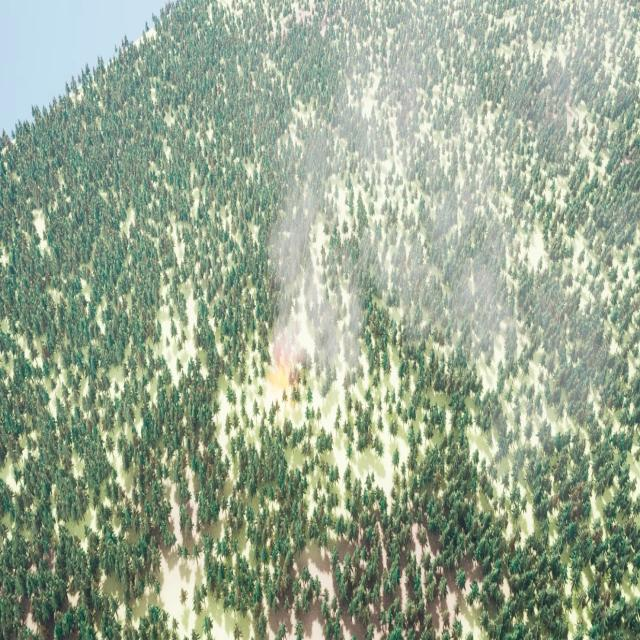fire: (263, 350, 296, 389)
smoke: (266, 35, 608, 472)
